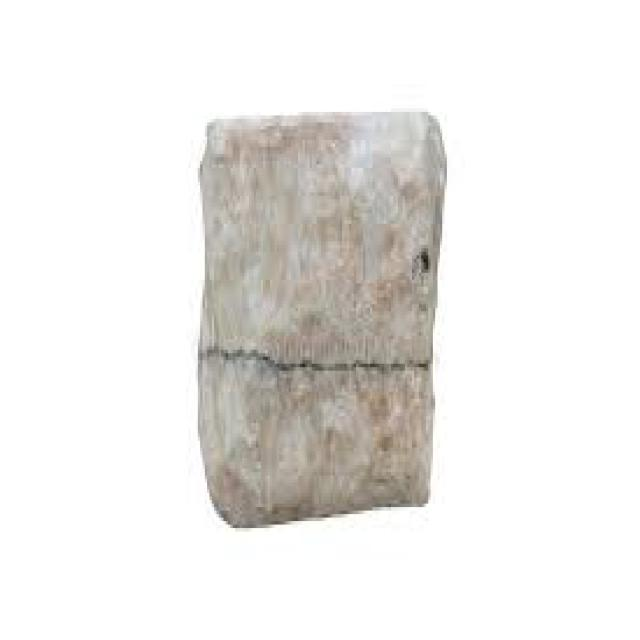Metamorphic: (191, 94, 440, 538)
